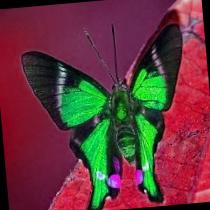butterfly: (21, 7, 185, 210)
